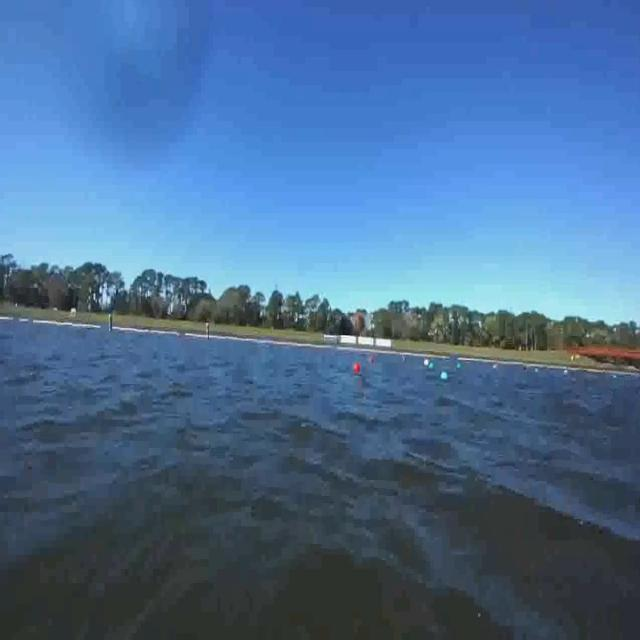red-buoy: (354, 361, 361, 374)
